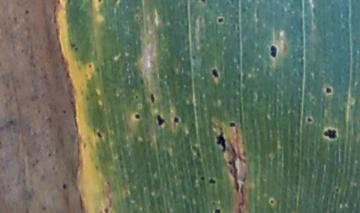tarspot: (215, 130, 226, 151), (322, 127, 338, 140), (269, 44, 278, 58), (156, 114, 166, 126), (210, 67, 220, 79), (323, 84, 333, 95), (149, 92, 156, 104), (305, 116, 314, 124), (226, 157, 234, 166), (96, 128, 102, 139), (228, 120, 236, 128), (217, 16, 225, 24), (60, 182, 67, 190), (208, 178, 217, 184), (173, 117, 180, 124), (310, 96, 317, 103), (133, 113, 141, 119), (269, 198, 275, 206), (335, 186, 340, 195), (87, 62, 93, 69), (23, 8, 30, 14), (214, 208, 222, 213), (200, 175, 206, 181), (103, 206, 108, 213), (74, 45, 79, 52), (63, 108, 68, 114), (200, 1, 207, 4), (98, 1, 103, 3)
